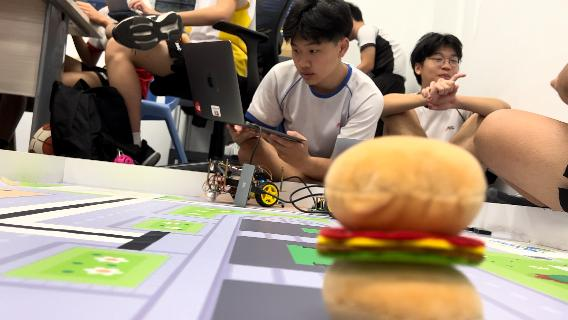burger: (314, 133, 490, 317)
